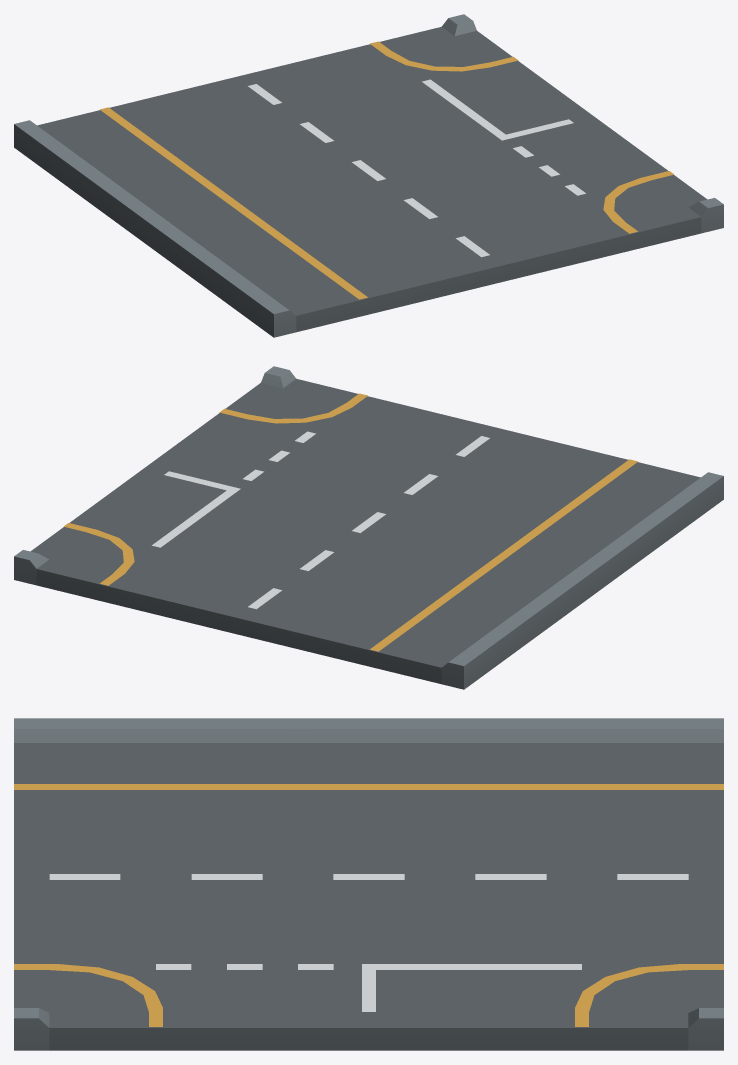
The model's file is road-tsplit.glb.
3 views of the same model, one above another, from view 1: azimuth 30°, elevation 25°; view 2: azimuth 150°, elevation 25°; view 3: azimuth 270°, elevation 25° (orthographic). The views are drawn at different scales.
Parts seen in each view (by area): view 1: road_tsplit; view 2: road_tsplit; view 3: road_tsplit.
Boxes of the visible parts, x1=… form: road_tsplit: x1=14, y1=14, x2=723, y2=337; road_tsplit: x1=14, y1=366, x2=723, y2=689; road_tsplit: x1=14, y1=718, x2=723, y2=1050.
Size of the model in its own units: 2 by 0.1 by 2.
Materials: 1 (1 with a texture image).
